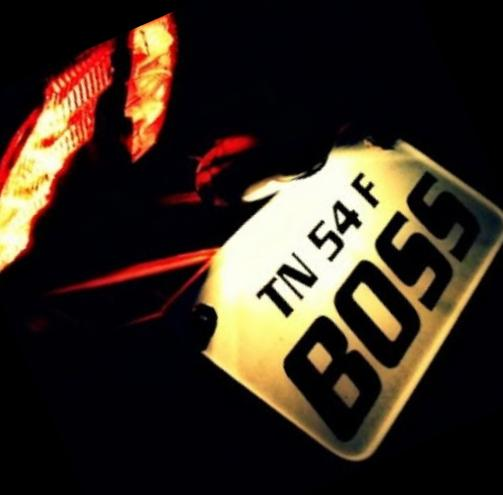plate: (131, 125, 503, 456)
